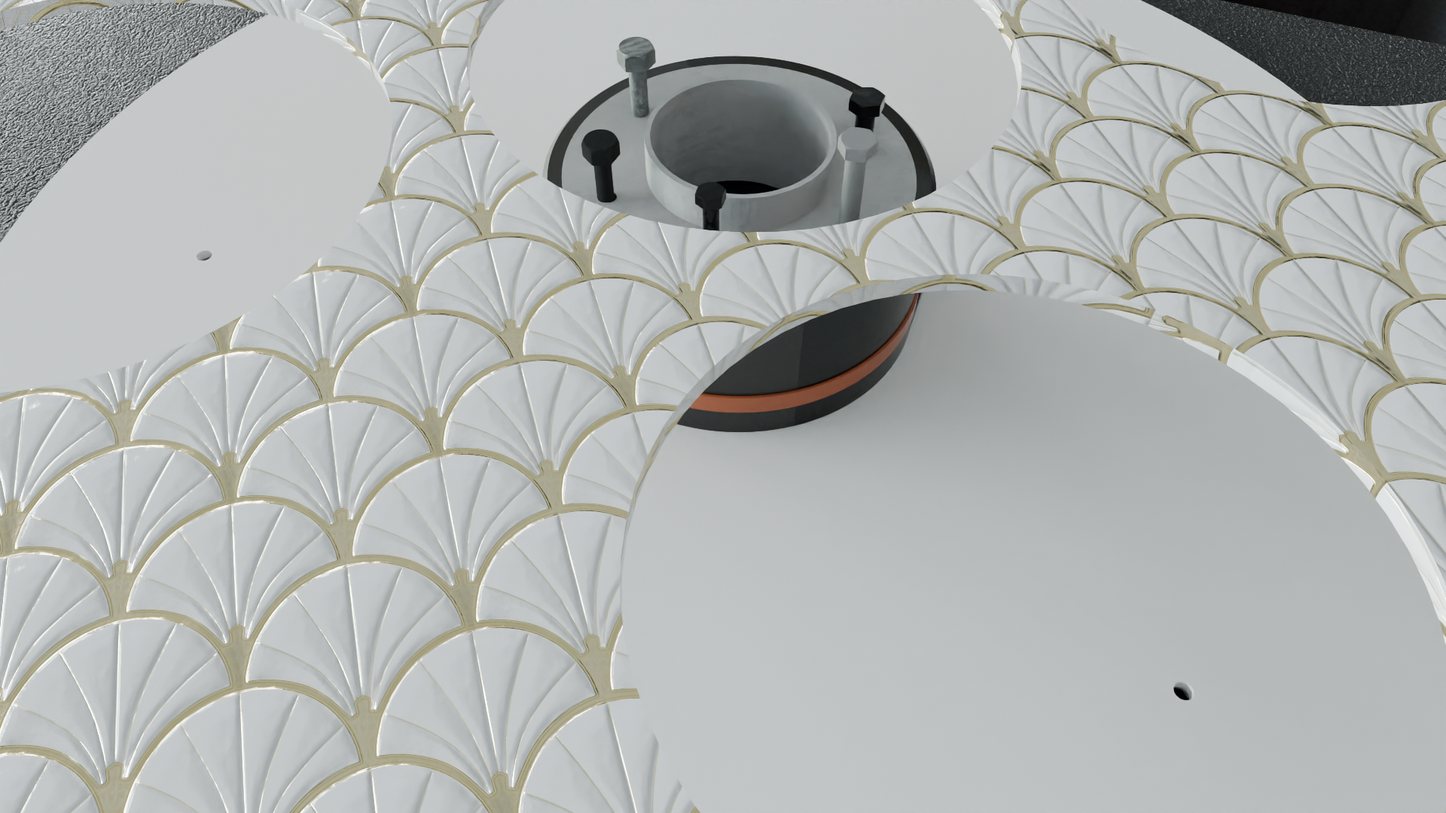bolt: (838, 127, 878, 152), (581, 129, 619, 154), (617, 37, 654, 60), (850, 87, 886, 108), (694, 182, 726, 202)
